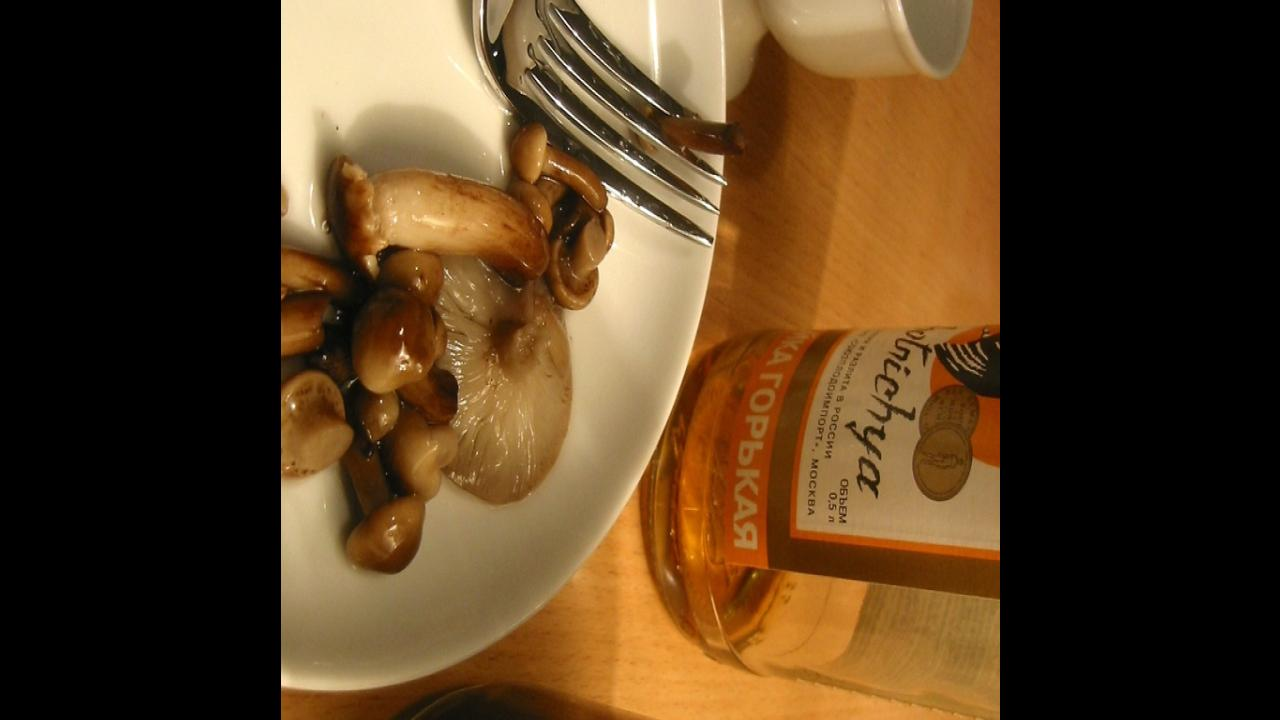fork: (348, 0, 731, 252)
